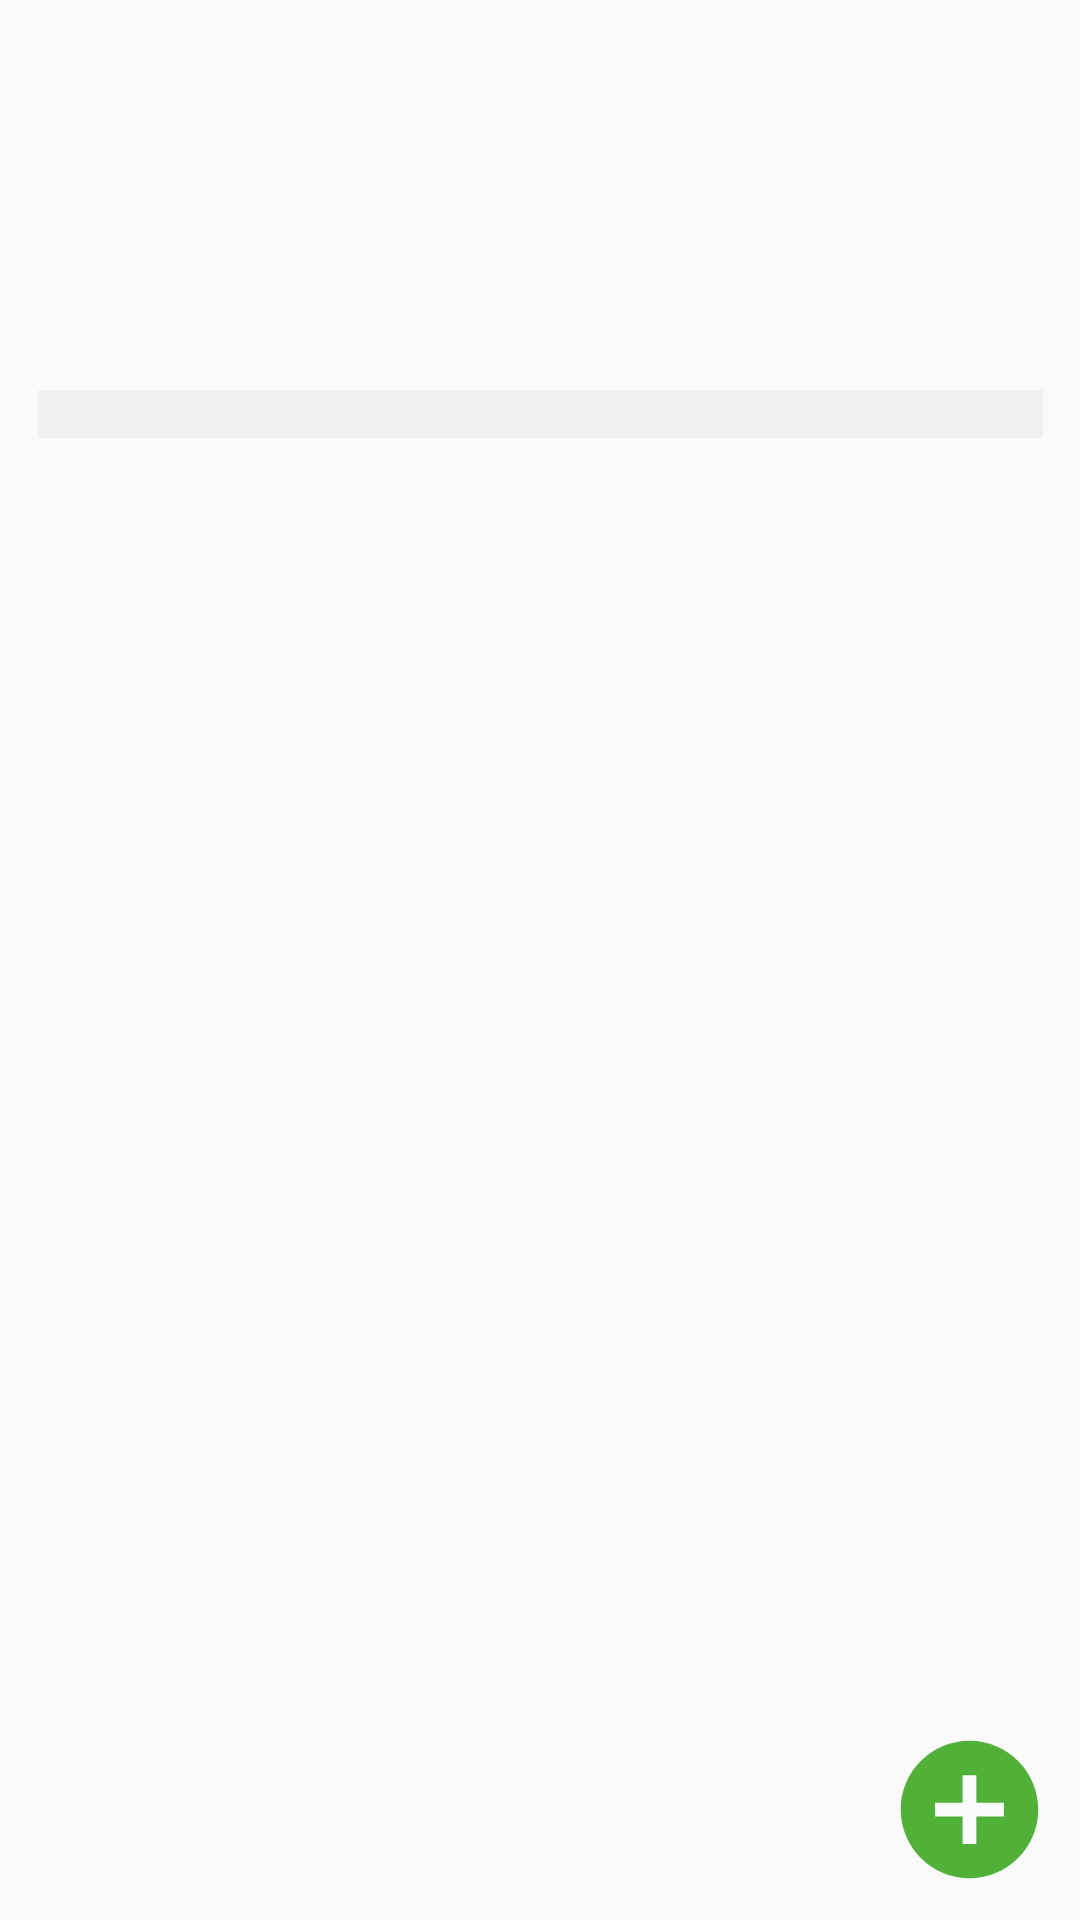

Named icons in this screenshot (1080 × 1920) and their centers, point (x, y):
add circle: point (969, 1809)
